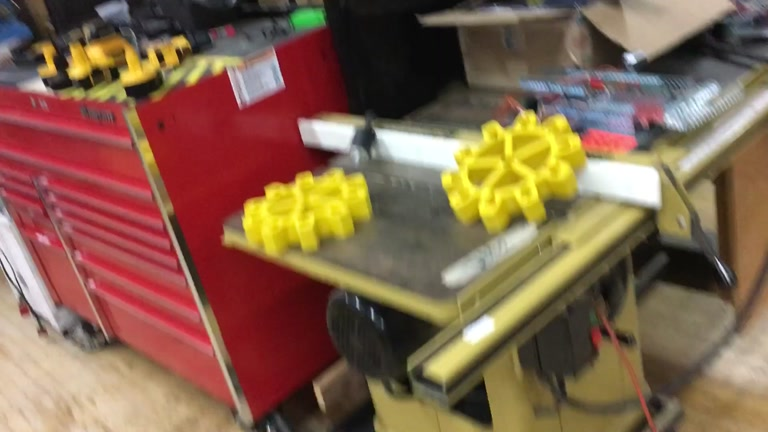gear: (441, 108, 586, 233), (242, 166, 374, 256)
